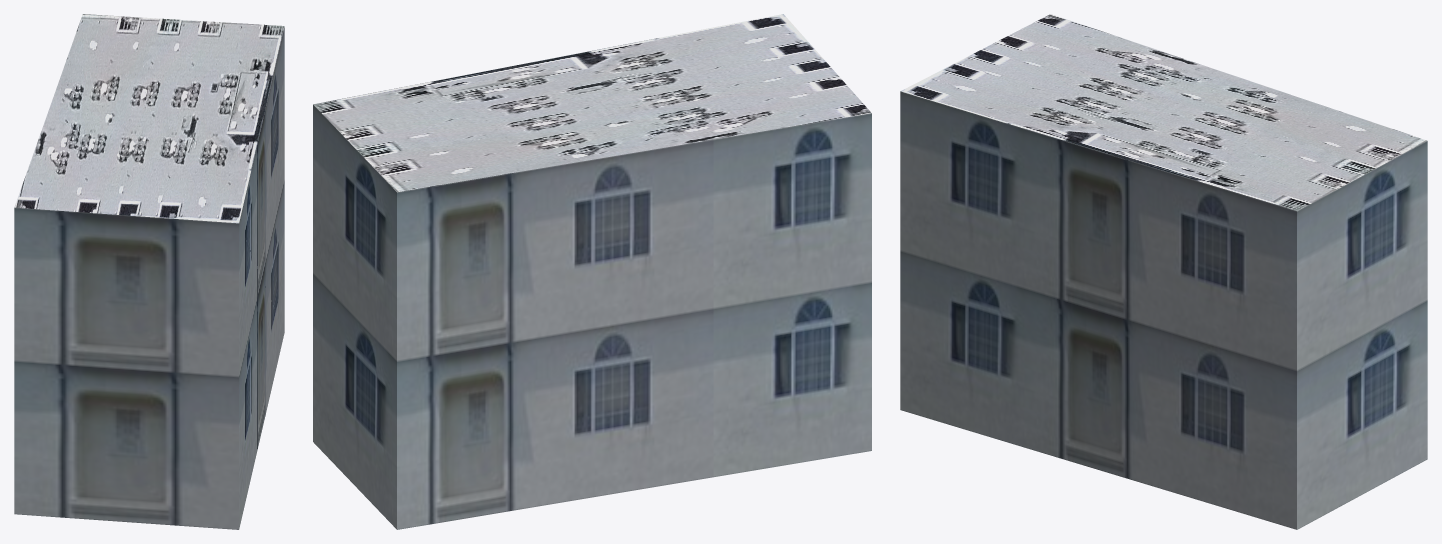
Rendered from ResTex__2105.fbx.
The picture shows the model from 3 angles, left to right: view 1: azimuth 30°, elevation 25°; view 2: azimuth 150°, elevation 25°; view 3: azimuth 270°, elevation 25°; orthographic projection. The views are drawn at different scales.
Parts seen in each view (by area): view 1: CityEngineMaterial_17_m, CityEngineMaterial_4_m; view 2: CityEngineMaterial_17_m, CityEngineMaterial_4_m; view 3: CityEngineMaterial_17_m, CityEngineMaterial_4_m.
Boxes of the visible parts, box(x1,y1,x2,y2) form: CityEngineMaterial_17_m: box(14, 27, 284, 529); CityEngineMaterial_4_m: box(14, 14, 284, 223); CityEngineMaterial_17_m: box(313, 104, 871, 529); CityEngineMaterial_4_m: box(313, 14, 871, 192); CityEngineMaterial_17_m: box(900, 91, 1427, 529); CityEngineMaterial_4_m: box(901, 14, 1426, 210).
Bounding box in the file's own units: 7.96 × 6 × 9.
Materials: 2 (2 with a texture image).
